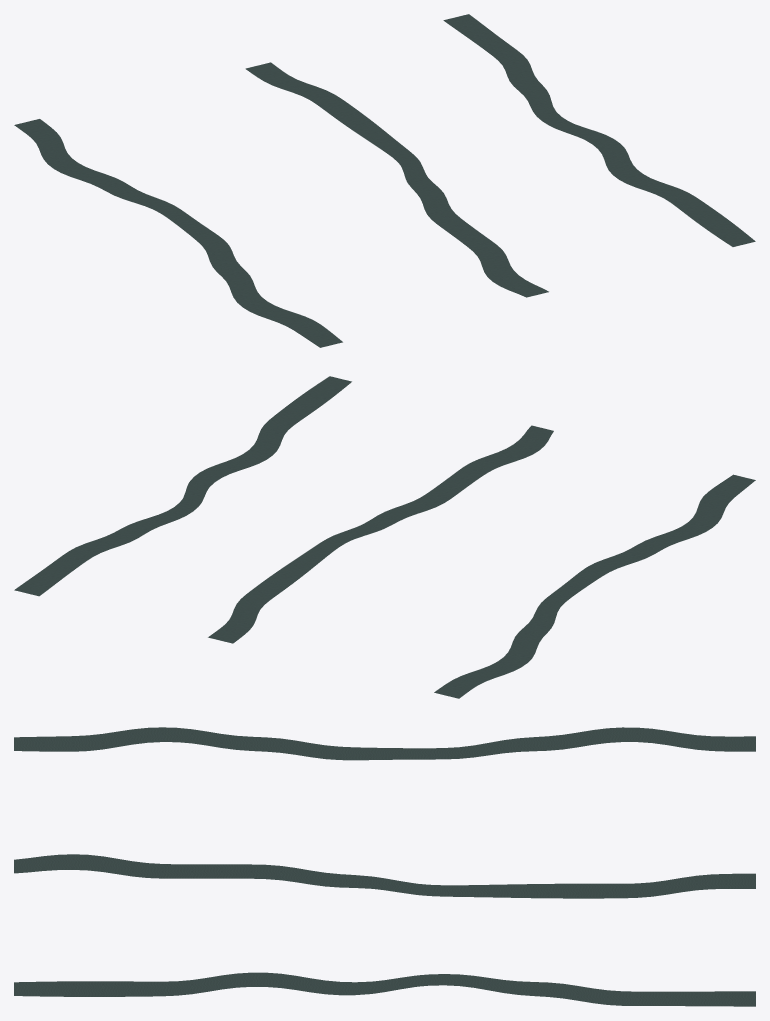
File: water.glb
3 views of the same model, one above another, from view 1: azimuth 30°, elevation 25°; view 2: azimuth 150°, elevation 25°; view 3: azimuth 270°, elevation 25° (orthographic). The views are drawn at different scales.
Visible parts, largest first — view 1: RiverWater_0.001, RiverWater_2.001, RiverWater_1.001; view 2: RiverWater_2.001, RiverWater_0.001, RiverWater_1.001; view 3: RiverWater_1.001, RiverWater_2.001, RiverWater_0.001, FordFlood_2.001, FordFlood_1.001, FordFlood_0.001.
Boxes of the visible parts, x1=… form: RiverWater_0.001: x1=14, y1=119, x2=342, y2=347; RiverWater_2.001: x1=443, y1=14, x2=755, y2=246; RiverWater_1.001: x1=245, y1=62, x2=548, y2=297; RiverWater_2.001: x1=14, y1=376, x2=351, y2=596; RiverWater_0.001: x1=434, y1=474, x2=755, y2=698; RiverWater_1.001: x1=208, y1=425, x2=553, y2=643; RiverWater_1.001: x1=14, y1=854, x2=755, y2=898; RiverWater_2.001: x1=14, y1=972, x2=755, y2=1006; RiverWater_0.001: x1=14, y1=727, x2=755, y2=760; FordFlood_2.001: x1=374, y1=975, x2=418, y2=993; FordFlood_1.001: x1=374, y1=877, x2=418, y2=894; FordFlood_0.001: x1=374, y1=747, x2=418, y2=759.
Size of the model in its own units: 89.05 by 0 by 100.
Materials: 1 (1 with a texture image).
